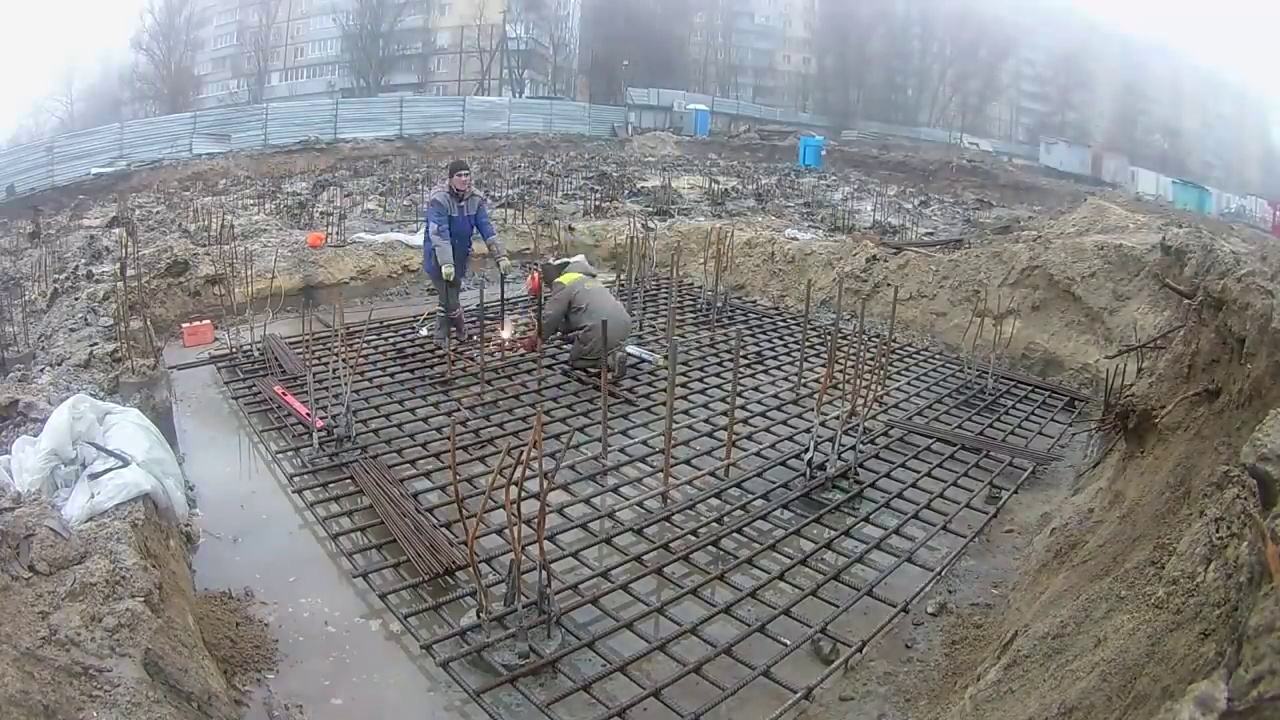helmet: (524, 269, 541, 300), (305, 233, 325, 248)
helmet-off: (443, 163, 472, 199)
person: (421, 160, 511, 341), (519, 255, 631, 381)
